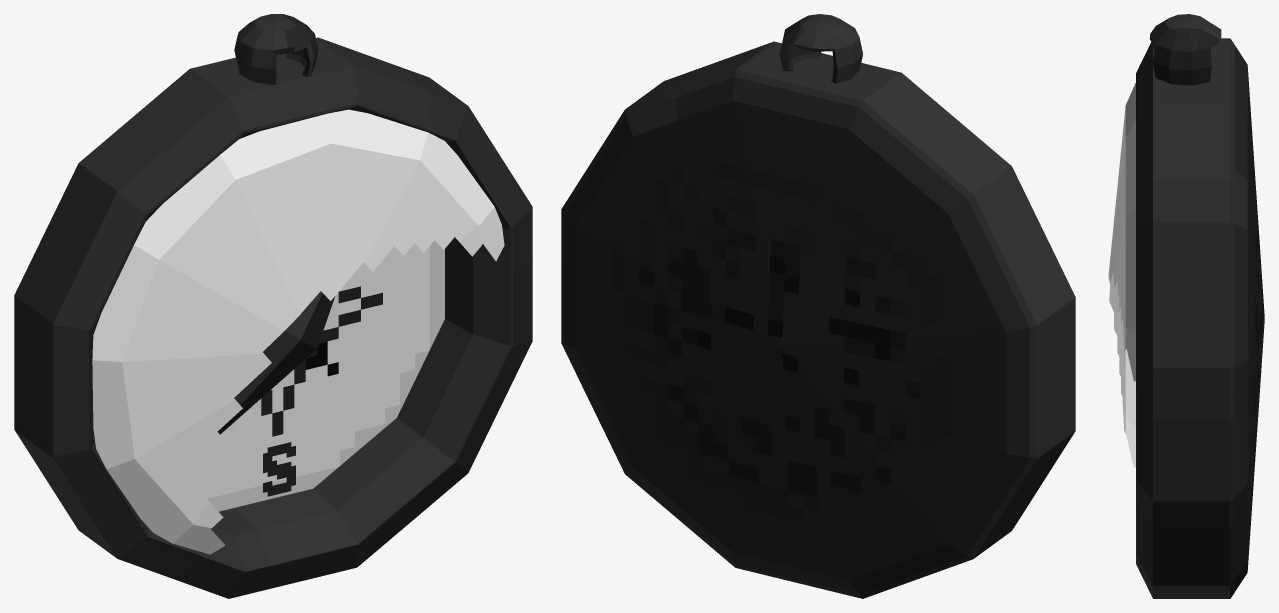
Rendered from compass.gltf.
3 views of the same model, side by side, from view 1: azimuth 30°, elevation 25°; view 2: azimuth 150°, elevation 25°; view 3: azimuth 270°, elevation 25° (orthographic).
Parts seen in each view (by area): view 1: cylinder, cylinder_selection, plane (×3), sphere; view 2: cylinder, sphere; view 3: cylinder, cylinder_selection, sphere.
Part boxes in pixels (x1,y1,x2,y2): cylinder: [14, 37, 532, 598]; cylinder_selection: [92, 109, 504, 554]; plane (×3): [217, 286, 382, 496]; sphere: [234, 14, 318, 84]; cylinder: [561, 41, 1075, 598]; sphere: [779, 14, 862, 83]; cylinder: [1136, 38, 1264, 598]; cylinder_selection: [1108, 83, 1135, 467]; sphere: [1150, 14, 1221, 85].
Bounding box in the file's own units: 0.5 × 0.5492 × 0.1461.
7 materials, 7 textured.
